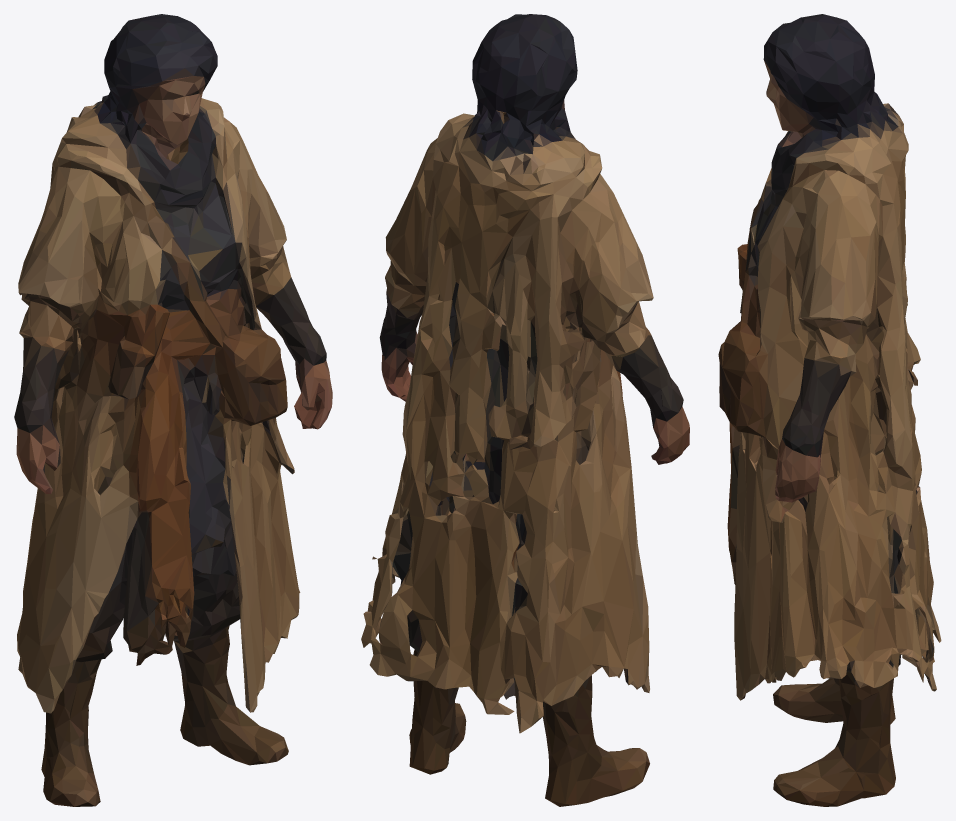
Rendered from caravan-scout.glb.
The picture shows the model from 3 angles, left to right: view 1: azimuth 30°, elevation 25°; view 2: azimuth 150°, elevation 25°; view 3: azimuth 270°, elevation 25°; orthographic projection. The views are drawn at different scales.
Parts seen in each view (by area): view 1: caravan-scout; view 2: caravan-scout; view 3: caravan-scout.
Boxes of the visible parts, x1=… form: caravan-scout: x1=14, y1=14, x2=332, y2=806; caravan-scout: x1=361, y1=14, x2=689, y2=806; caravan-scout: x1=718, y1=14, x2=941, y2=806.
Size of the model in its own units: 0.7146 by 1.7 by 0.4667.
